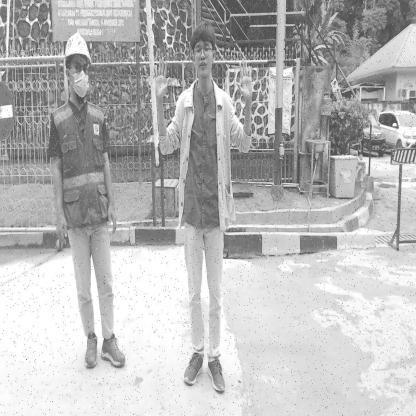boots: (180, 342, 206, 388), (206, 352, 232, 394), (99, 334, 128, 370), (80, 323, 102, 370)
helmet: (60, 34, 96, 64)
mask: (71, 70, 91, 99)
